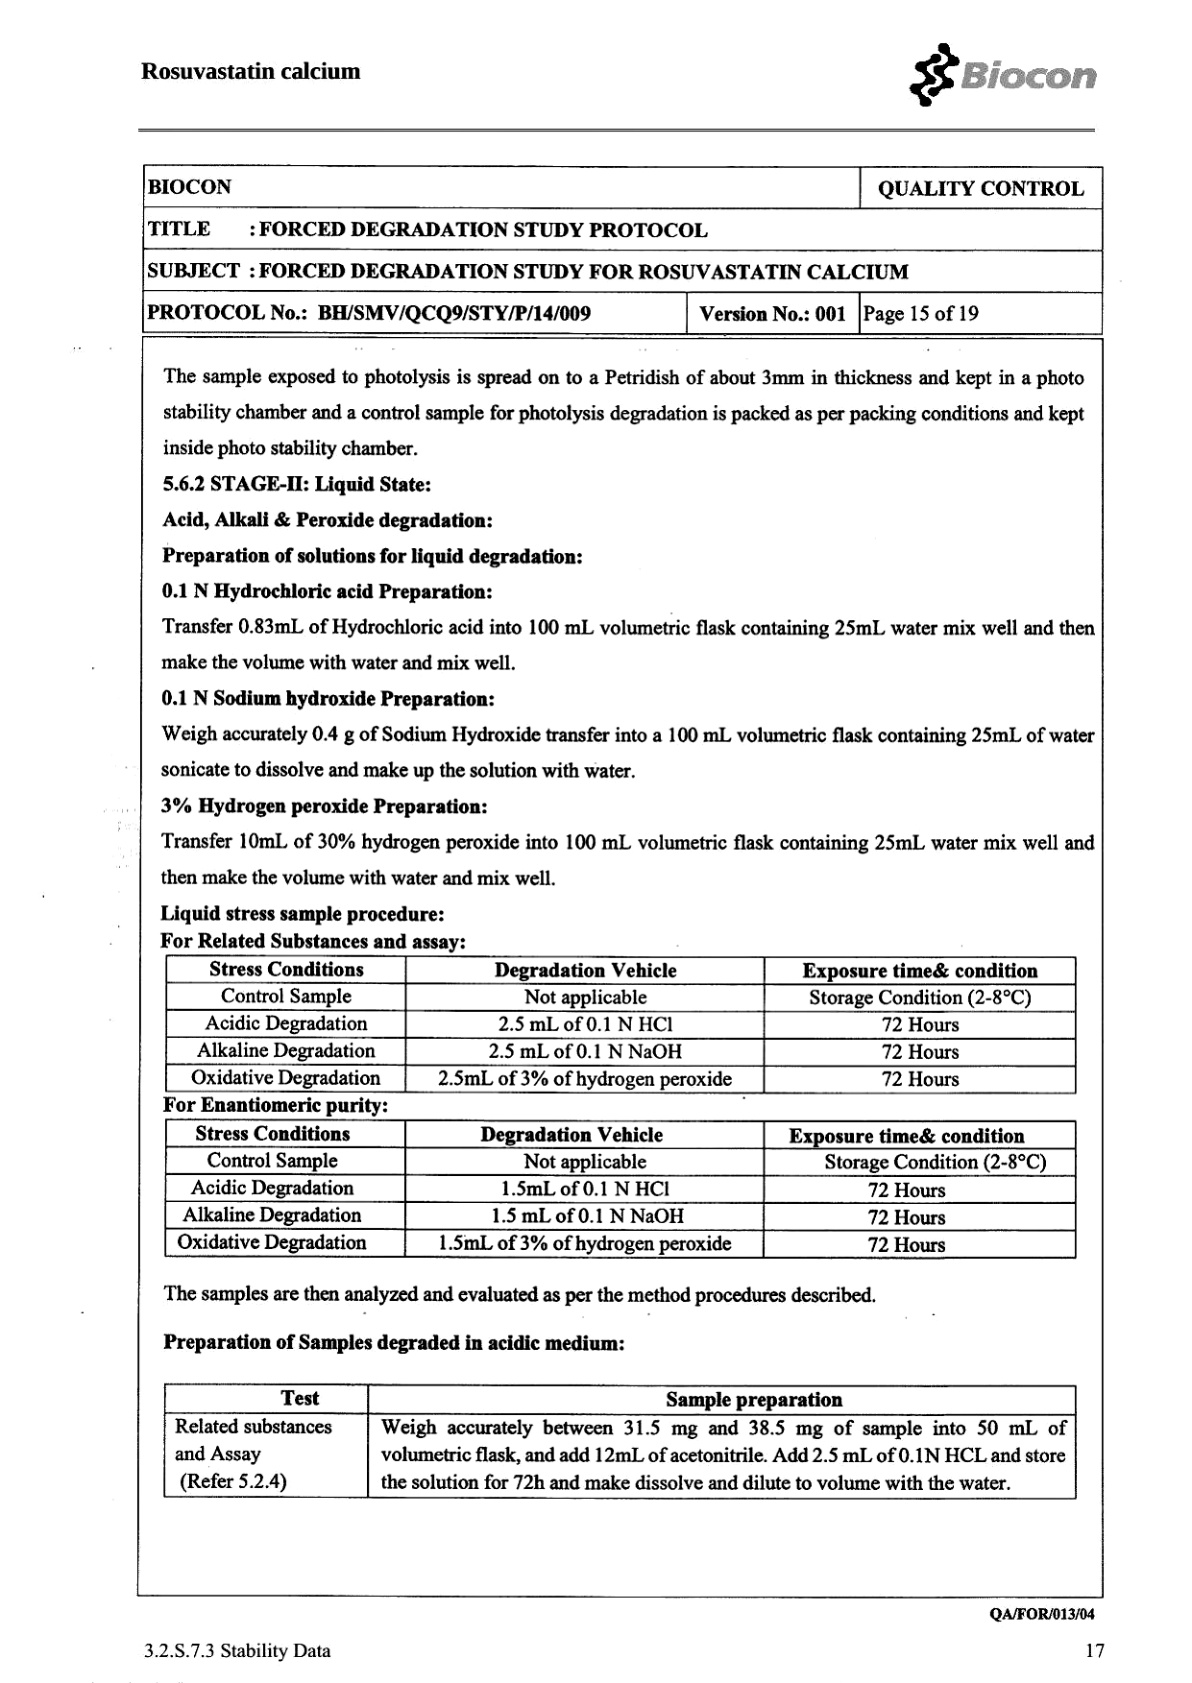full_lined: (163, 1118, 1077, 1260), (164, 956, 1077, 1094), (163, 1381, 1077, 1500)
merged_cells: (142, 164, 1103, 335)
